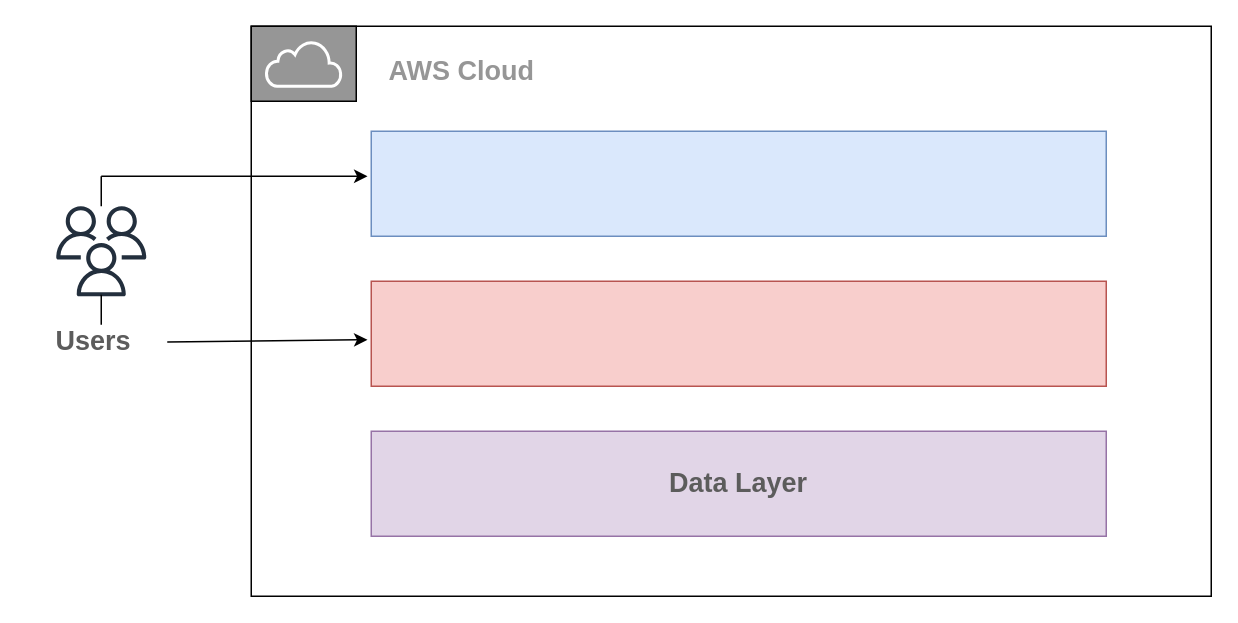
The diagram is 1238 pixels wide and 623 high, and some of its shapes have lost their labels. Here are the shapes that lost their labels. From the top down, the centre of each, then its label:
point (738, 183): Presentation Layer
point (738, 333): Compute Layer
